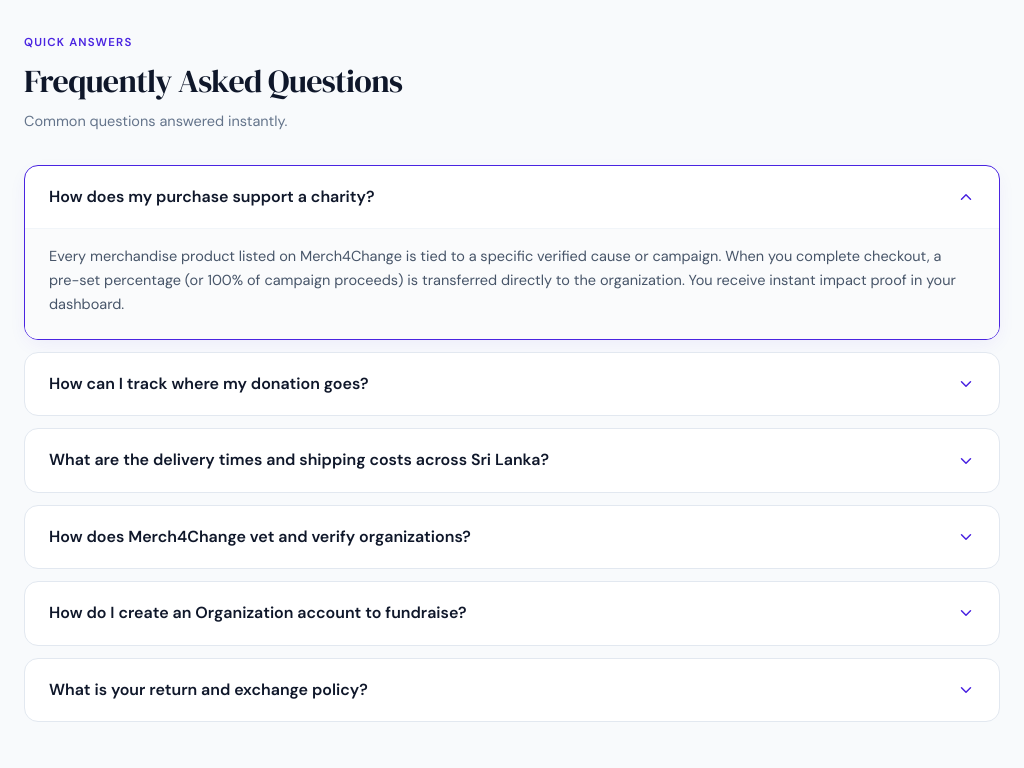
Scenario: HelpAndSupport › renders the FAQ accordion and toggles an item
This screenshot has width=1024, height=768.
(page scrolled)
Expected: the heading "Frequently Asked Questions" is shown, [24,59,402,103]
Click the button "How can I track where my donation goes?" at (209, 384), box [25,353,999,416]
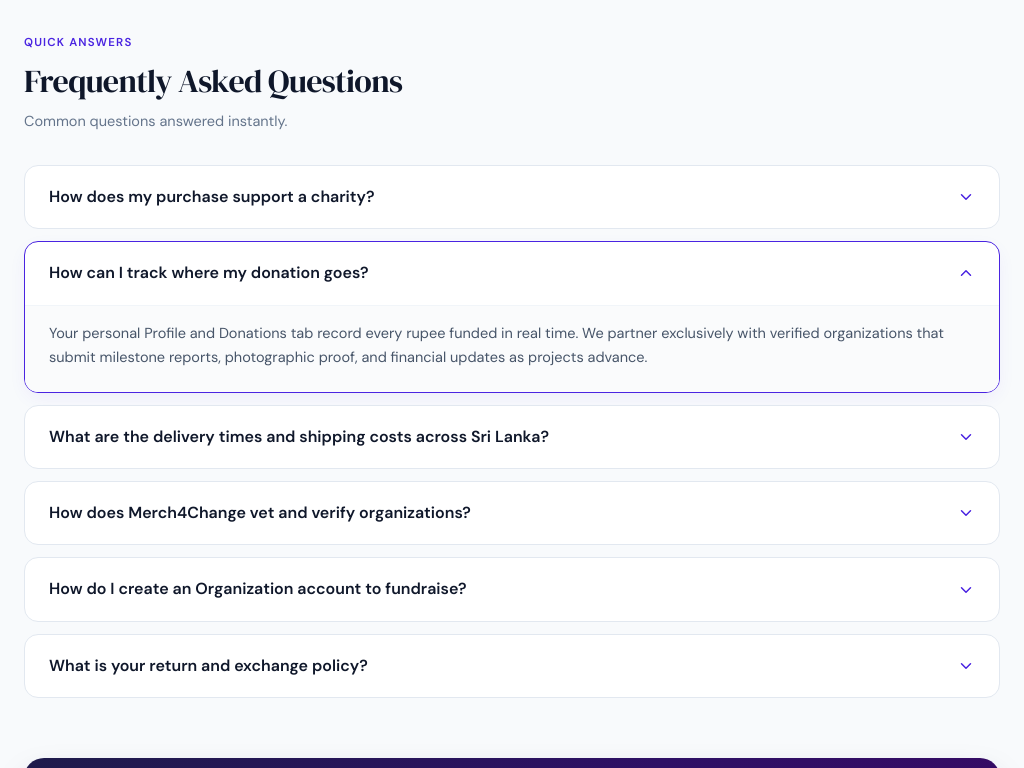
Expected: the button "How can I track where my donation goes?" is expanded, [25,242,999,305]
Expected: the text "Your personal Profile and Donations tab record every rupee" is shown, [49,324,944,366]
